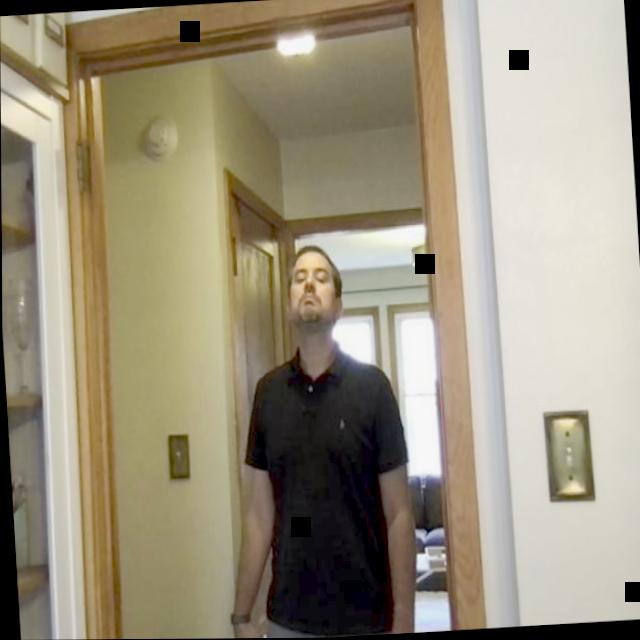NO-Mask: (283, 242, 346, 333)
